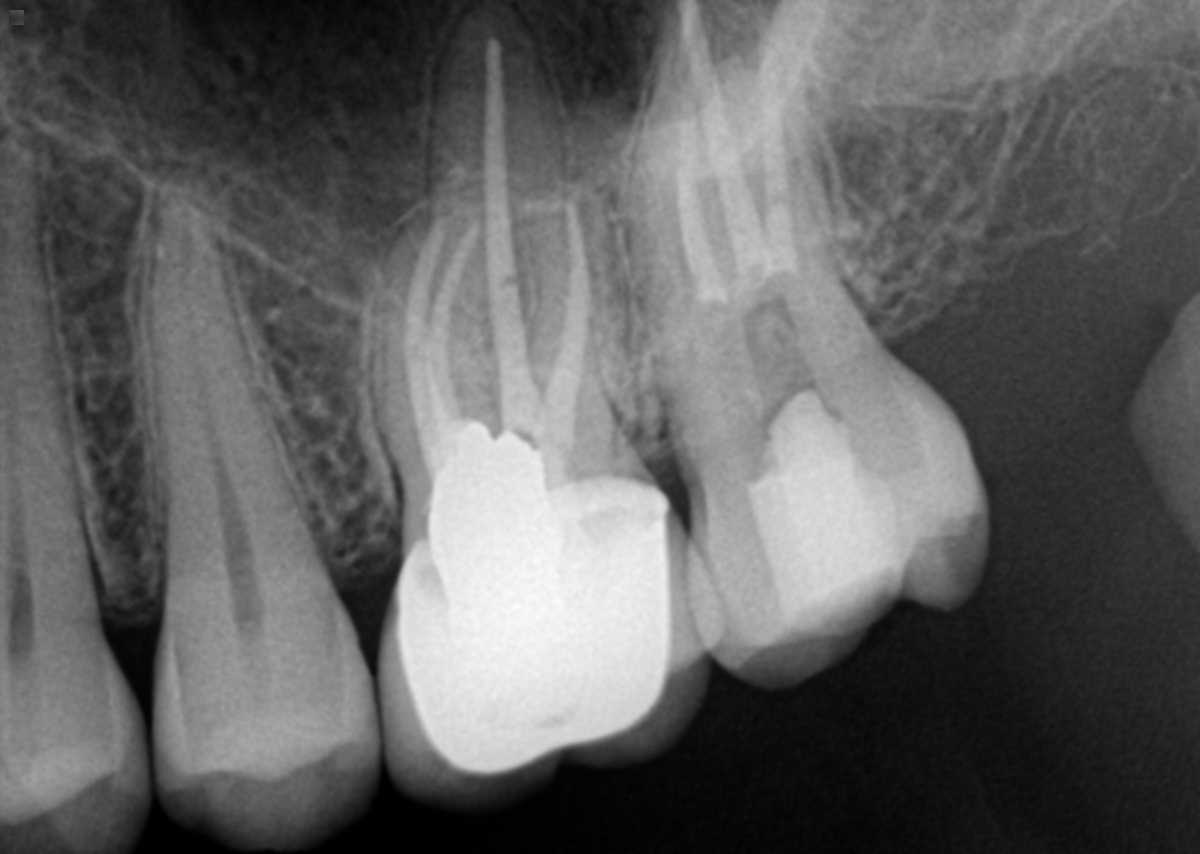Distal Root: (518, 180, 636, 481)
Main Canal: (176, 203, 264, 624), (1, 334, 35, 659)
Main Root: (146, 163, 332, 641), (625, 0, 843, 373), (0, 102, 105, 666)
Mesial Root: (371, 190, 502, 532)
Palatal Root: (427, 0, 604, 471)
Root Canal Filling: (677, 0, 770, 286), (485, 33, 545, 445), (405, 214, 483, 477), (525, 200, 591, 456), (674, 104, 728, 309), (760, 44, 796, 274)
